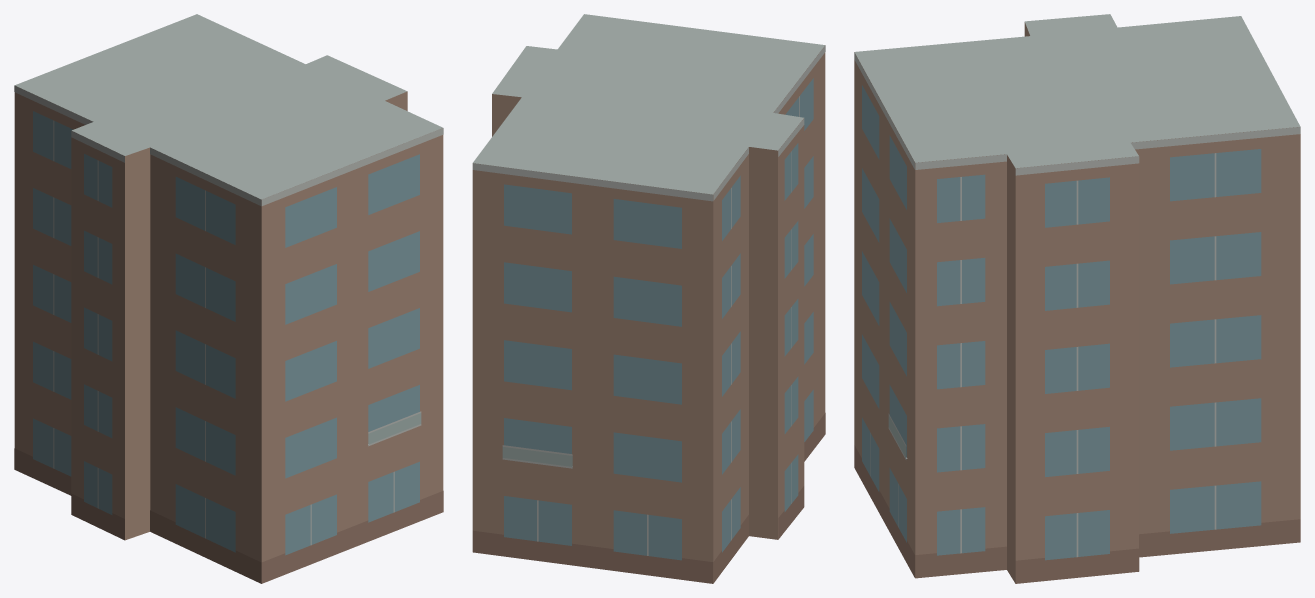
Rendered from survey-upis-32569100.glb.
3 views of the same model, side by side, from view 1: azimuth 30°, elevation 25°; view 2: azimuth 150°, elevation 25°; view 3: azimuth 270°, elevation 25° (orthographic). The views are drawn at different scales.
Visible parts, largest first — view 1: survey-upis-32569100.tmp; view 2: survey-upis-32569100.tmp; view 3: survey-upis-32569100.tmp.
Boxes of the visible parts, x1,y1,x2,y2 form: survey-upis-32569100.tmp: (14,14,443,583); survey-upis-32569100.tmp: (472,14,825,583); survey-upis-32569100.tmp: (854,14,1300,583).
Bounding box in the file's own units: 10.99 × 13.8 × 13.44.
